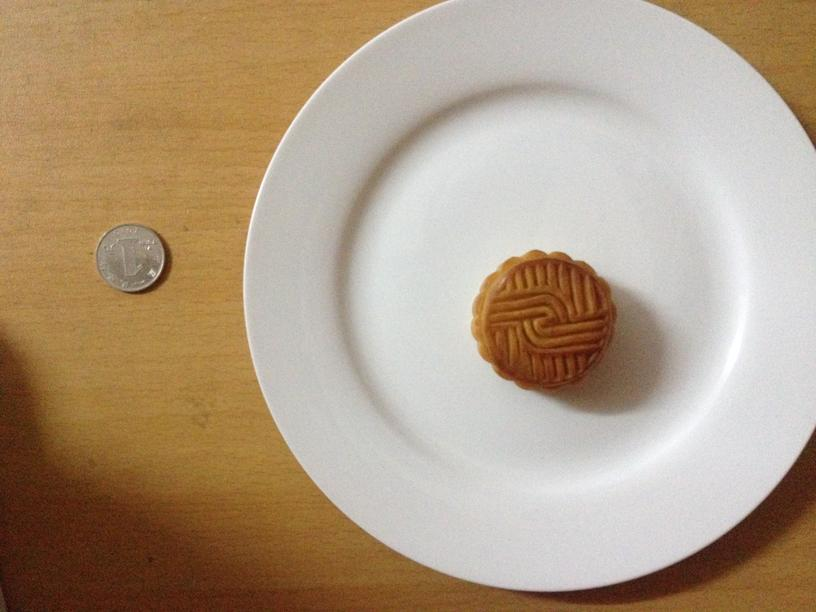coin: (94, 221, 167, 292)
mooncake: (471, 246, 616, 389)
